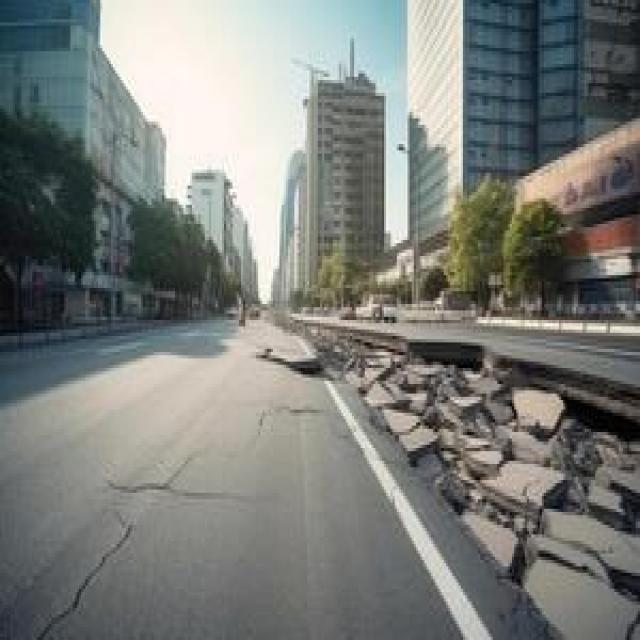road collapse: (87, 198, 640, 640)
